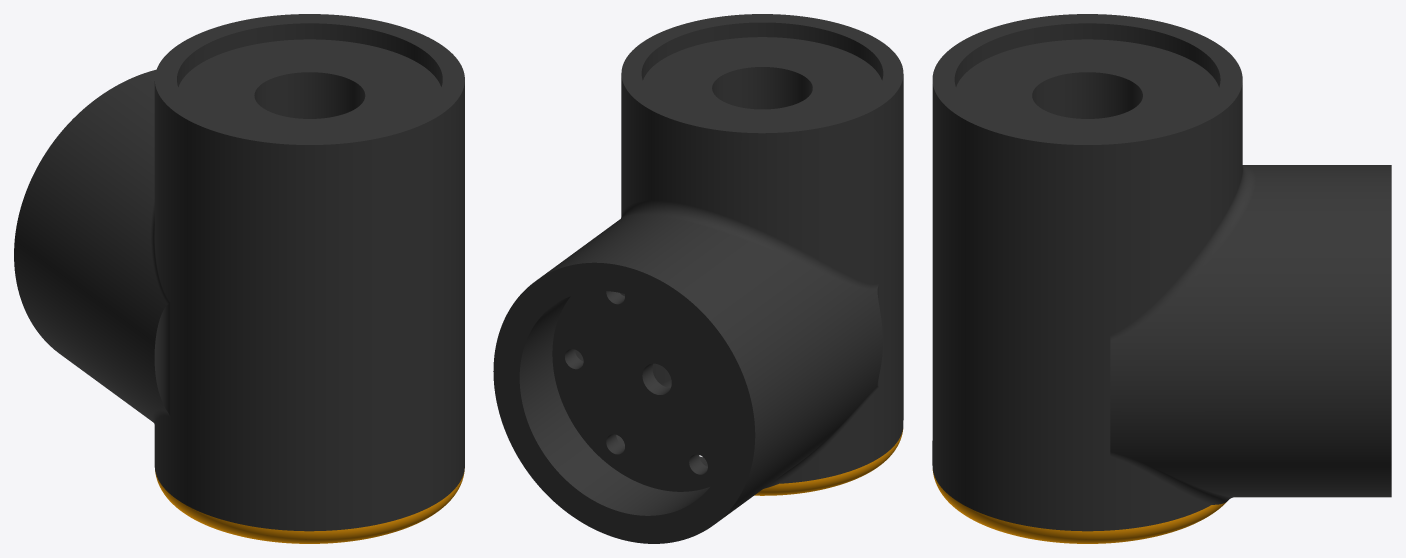
File: wrist_2.obj
3 renders of one model, left to right at view 1: azimuth 30°, elevation 25°; view 2: azimuth 150°, elevation 25°; view 3: azimuth 270°, elevation 25°, orthographic. The views are drawn at different scales.
Parts seen in each view (by area): view 1: wrist2; view 2: wrist2; view 3: wrist2.
Boxes of the visible parts, x1,y1,x2,y2 form: wrist2: [14, 14, 464, 543]; wrist2: [493, 14, 903, 543]; wrist2: [932, 14, 1391, 543].
Bounding box in the file's own units: 75 × 101 × 104.
